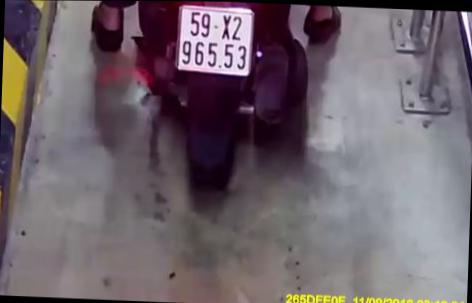LP: (175, 3, 256, 77)
